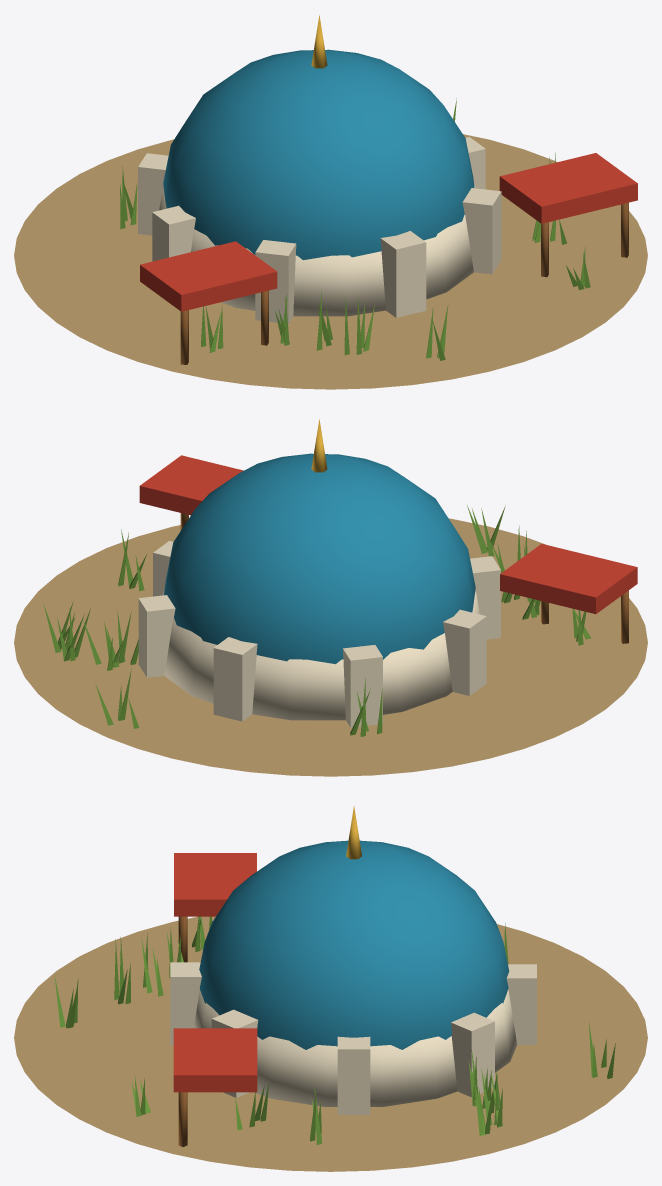
Rendered from improvement_trading_dome.fbx.
The picture shows the model from 3 angles, top to bottom: view 1: azimuth 30°, elevation 25°; view 2: azimuth 150°, elevation 25°; view 3: azimuth 270°, elevation 25°; orthographic projection.
Parts seen in each view (by area): view 1: improvement_trading_dome_gpatch#b89a68r_00, improvement_trading_dome_tddome_03, improvement_trading_dome_tdw_02, improvement_trading_dome_awn_05, improvement_trading_dome_leaf#6a9a3a.014_01, improvement_trading_dome_wood#8a5a2c.012_06; view 2: improvement_trading_dome_gpatch#b89a68r_00, improvement_trading_dome_tddome_03, improvement_trading_dome_tdw_02, improvement_trading_dome_awn_05, improvement_trading_dome_leaf#6a9a3a.014_01, improvement_trading_dome_wood#8a5a2c.012_06; view 3: improvement_trading_dome_gpatch#b89a68r_00, improvement_trading_dome_tddome_03, improvement_trading_dome_tdw_02, improvement_trading_dome_awn_05, improvement_trading_dome_leaf#6a9a3a.014_01, improvement_trading_dome_wood#8a5a2c.012_06.
Boxes of the visible parts, x1,y1,x2,y2 form: improvement_trading_dome_gpatch#b89a68r_00: (14, 134, 647, 389); improvement_trading_dome_tddome_03: (163, 49, 474, 260); improvement_trading_dome_tdw_02: (138, 137, 501, 323); improvement_trading_dome_awn_05: (140, 153, 637, 311); improvement_trading_dome_leaf#6a9a3a.014_01: (120, 98, 590, 360); improvement_trading_dome_wood#8a5a2c.012_06: (180, 202, 628, 364); improvement_trading_dome_gpatch#b89a68r_00: (14, 518, 647, 776); improvement_trading_dome_tddome_03: (164, 453, 475, 664); improvement_trading_dome_tdw_02: (138, 541, 500, 727); improvement_trading_dome_awn_05: (139, 455, 637, 614); improvement_trading_dome_leaf#6a9a3a.014_01: (43, 505, 590, 736); improvement_trading_dome_wood#8a5a2c.012_06: (180, 513, 628, 643); improvement_trading_dome_gpatch#b89a68r_00: (14, 916, 647, 1171); improvement_trading_dome_tddome_03: (199, 840, 509, 1049); improvement_trading_dome_tdw_02: (170, 919, 536, 1114); improvement_trading_dome_awn_05: (173, 853, 257, 1092); improvement_trading_dome_leaf#6a9a3a.014_01: (54, 916, 615, 1144); improvement_trading_dome_wood#8a5a2c.012_06: (178, 916, 187, 1146).
Bounding box in the file's own units: 137 × 72 × 137.
